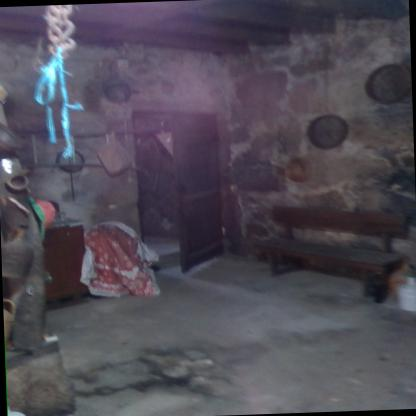semi: (120, 98, 244, 278)
